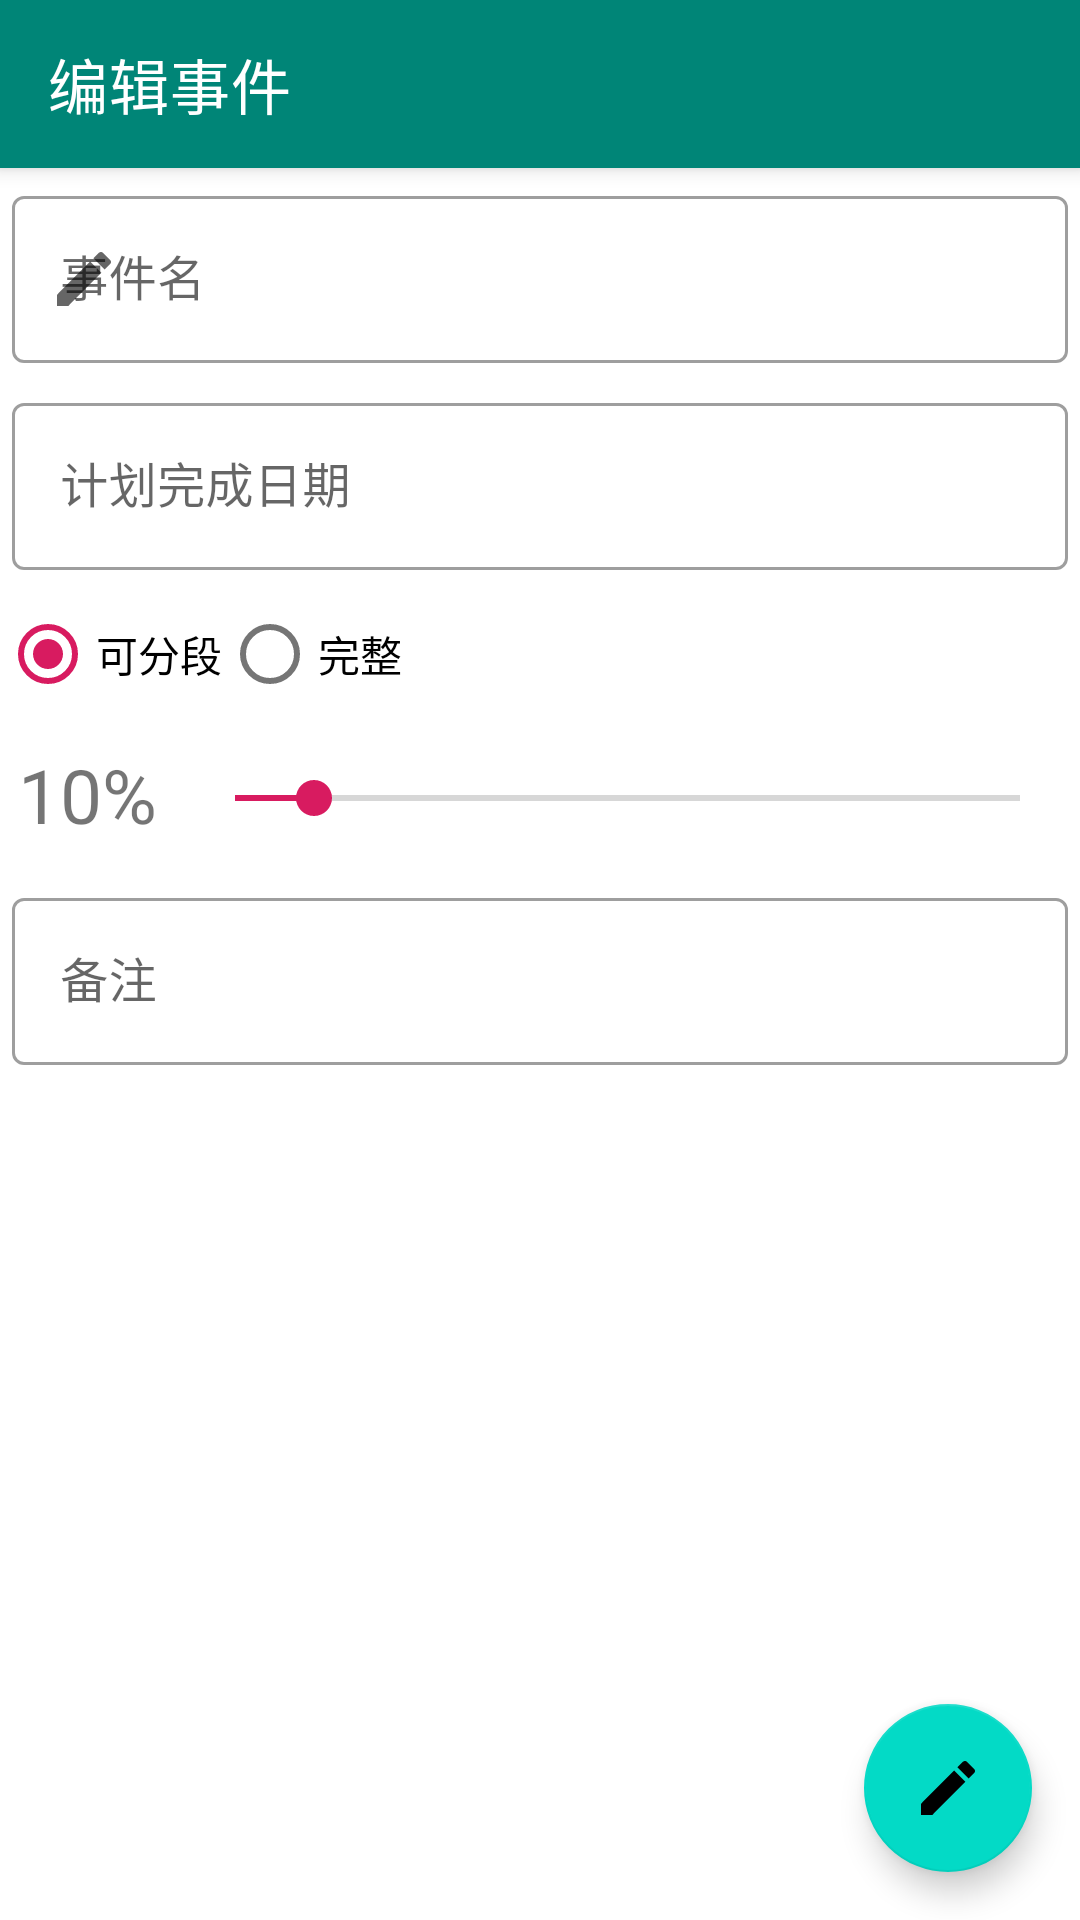

Icon bounding boxes for this 1080 × 1920 phone screenshot, format [x1,y1,x2,y2]:
edit: [864,1704,1032,1872]
